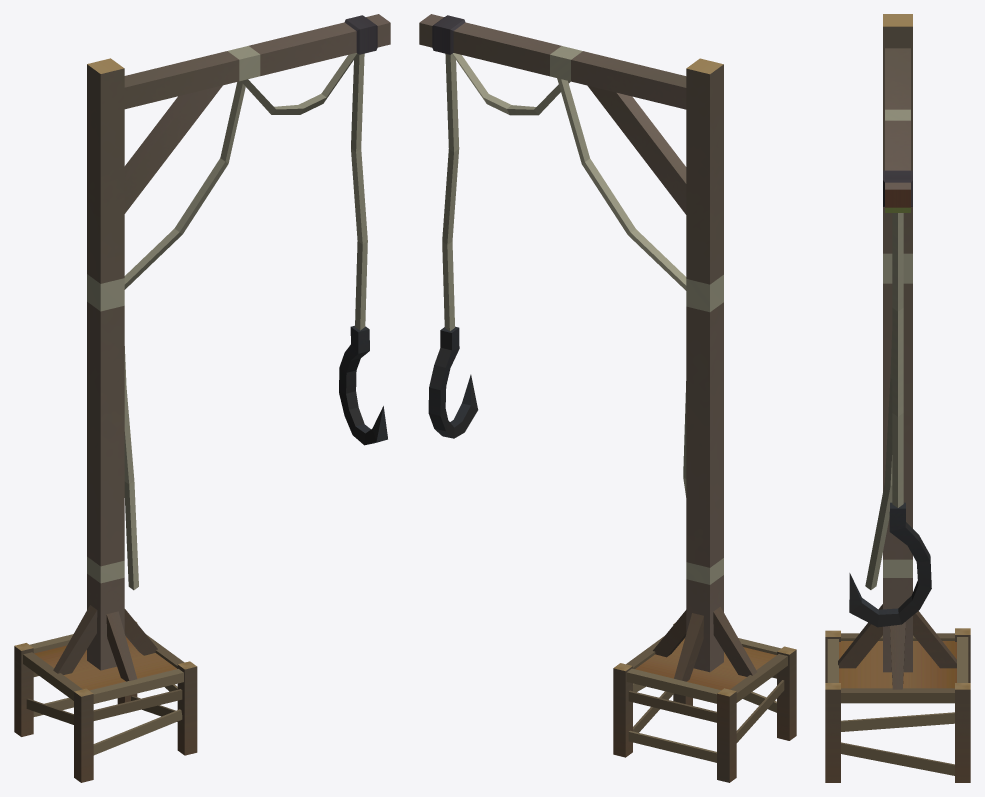
The model's file is Crane_1_LOD1.fbx.
3 renders of one model, left to right at view 1: azimuth 30°, elevation 25°; view 2: azimuth 150°, elevation 25°; view 3: azimuth 270°, elevation 25°, orthographic. The views are drawn at different scales.
Visible parts, largest first — view 1: polySurface9799; view 2: polySurface9799; view 3: polySurface9799.
Part boxes in pixels (x1,y1,x2,y2): polySurface9799: (14, 14, 390, 782); polySurface9799: (419, 14, 796, 782); polySurface9799: (825, 14, 970, 782).
Size of the model in its own units: 325 by 625 by 112.
